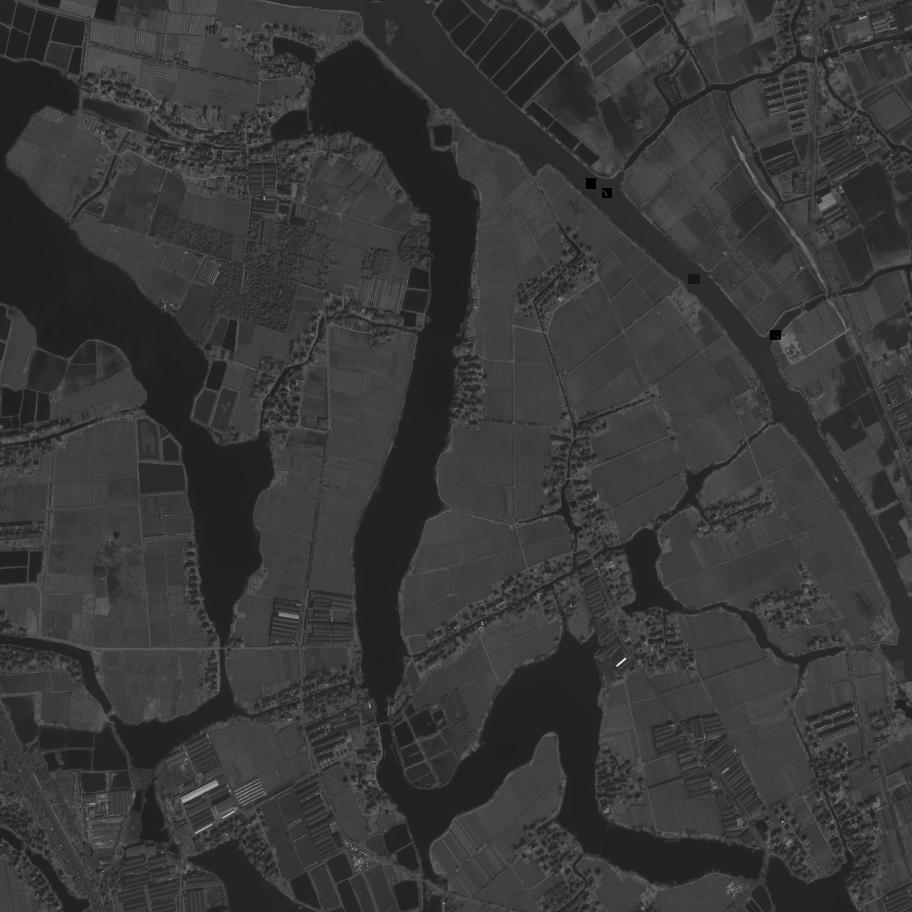ship: (688, 274, 702, 284), (586, 178, 597, 190), (770, 330, 782, 340), (602, 188, 612, 199)
